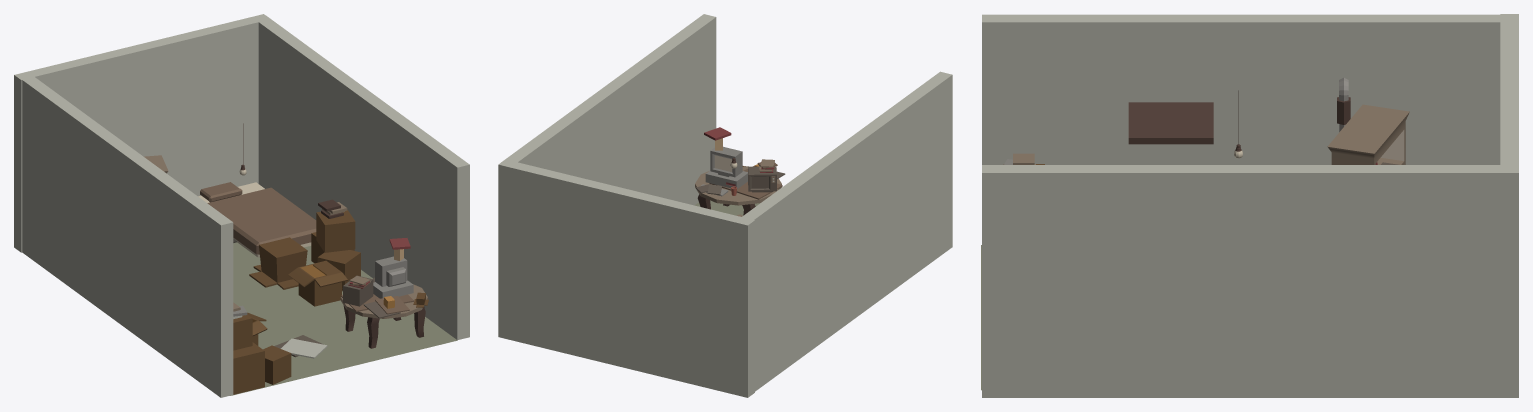
Rendered from Ptrotag_room_wtreeTEXTURED.fbx.
3 renders of one model, left to right at view 1: azimuth 30°, elevation 25°; view 2: azimuth 150°, elevation 25°; view 3: azimuth 270°, elevation 25°, orthographic. The views are drawn at different scales.
Parts seen in each view (by area): view 1: walls, polySurface71, polySurface10, polySurface24, polySurface81, polySurface27, polySurface51, polySurface87, polySurface97, polySurface47, polySurface61, polySurface90; view 2: walls, polySurface97, polySurface87, polySurface90, polySurface47; view 3: walls, polySurface179, polySurface181, polySurface145.
Boxes of the visible parts, left/top/right/bottom form: walls: left=14, top=14, right=469, bottom=397; polySurface71: left=230, top=242, right=457, bottom=395; polySurface10: left=198, top=182, right=316, bottom=257; polySurface24: left=233, top=302, right=291, bottom=394; polySurface81: left=311, top=199, right=360, bottom=291; polySurface27: left=249, top=237, right=307, bottom=289; polySurface51: left=288, top=260, right=347, bottom=306; polySurface87: left=340, top=284, right=427, bottom=348; polySurface97: left=373, top=256, right=413, bottom=298; polySurface47: left=341, top=277, right=428, bottom=318; polySurface61: left=274, top=335, right=327, bottom=358; polySurface90: left=343, top=275, right=373, bottom=306; walls: left=498, top=14, right=952, bottom=397; polySurface97: left=705, top=146, right=747, bottom=188; polySurface87: left=695, top=166, right=781, bottom=215; polySurface90: left=748, top=166, right=776, bottom=192; polySurface47: left=695, top=164, right=785, bottom=199; walls: left=982, top=14, right=1518, bottom=397; polySurface179: left=1327, top=104, right=1409, bottom=164; polySurface181: left=1128, top=102, right=1213, bottom=144; polySurface145: left=1337, top=77, right=1350, bottom=131.
Size of the model in its own units: 32.93 by 21.92 by 47.09.
21 materials, 21 textured.
